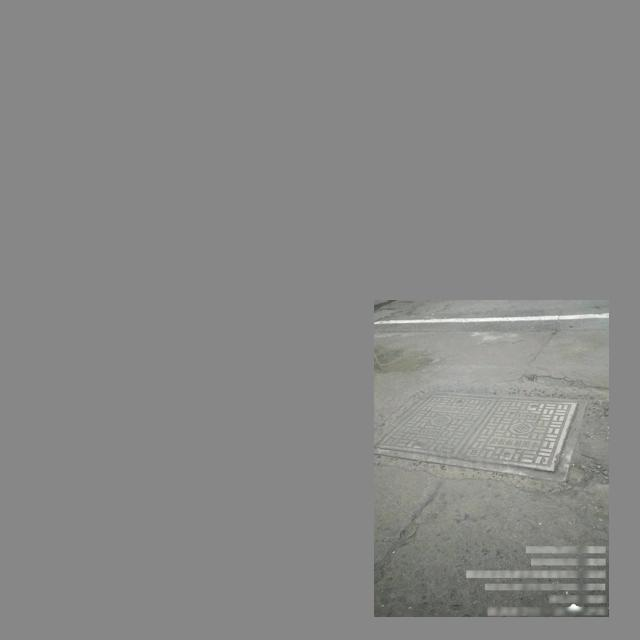good: (374, 392, 588, 481)
